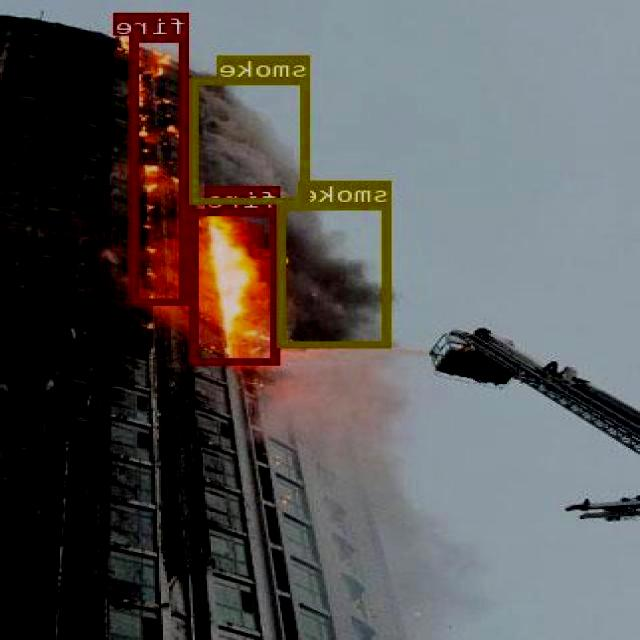fire: (132, 34, 189, 304), (193, 209, 282, 363)
smoke: (279, 202, 394, 346), (192, 78, 310, 202)
